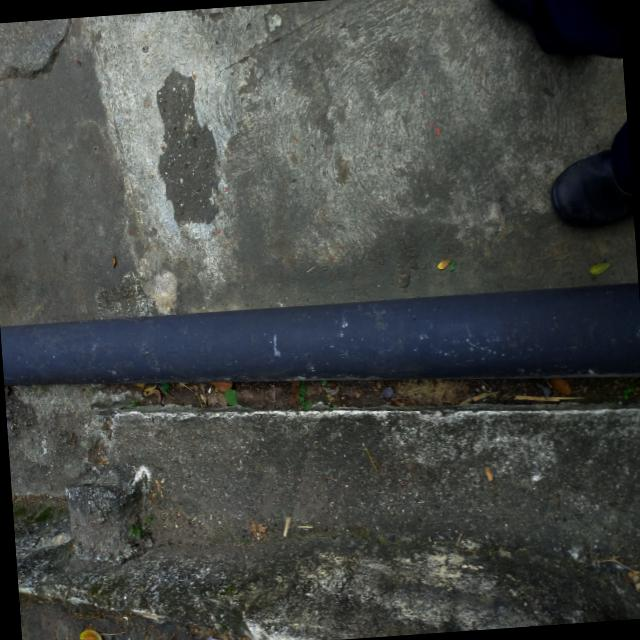gas: (0, 283, 640, 384)
